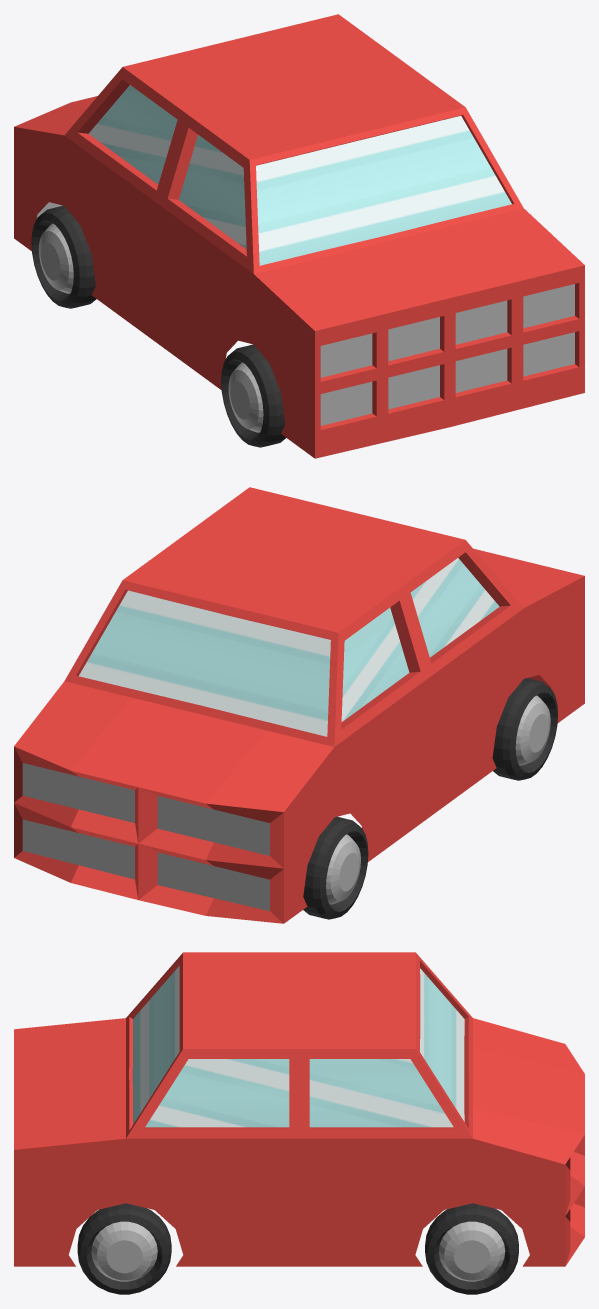
Rendered from Props_Car_01.fbx.
3 renders of one model, top to bottom at view 1: azimuth 30°, elevation 25°; view 2: azimuth 150°, elevation 25°; view 3: azimuth 270°, elevation 25°, orthographic. The views are drawn at different scales.
Visible parts, largest first — view 1: Props_Car_01; view 2: Props_Car_01; view 3: Props_Car_01.
Boxes of the visible parts, box(x1,y1,x2,y2) form: Props_Car_01: box(14, 14, 584, 458); Props_Car_01: box(14, 487, 584, 923); Props_Car_01: box(14, 952, 584, 1294).
Bounding box in the file's own units: 111 × 89.53 × 200.
